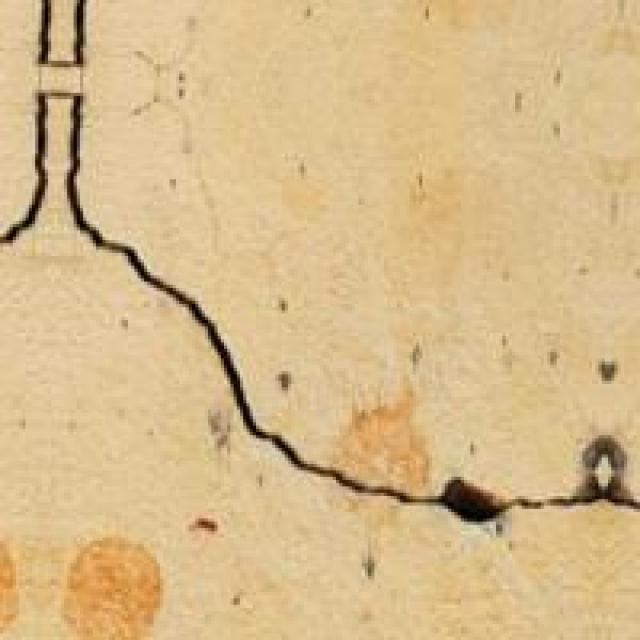crack: (3, 0, 637, 563)
